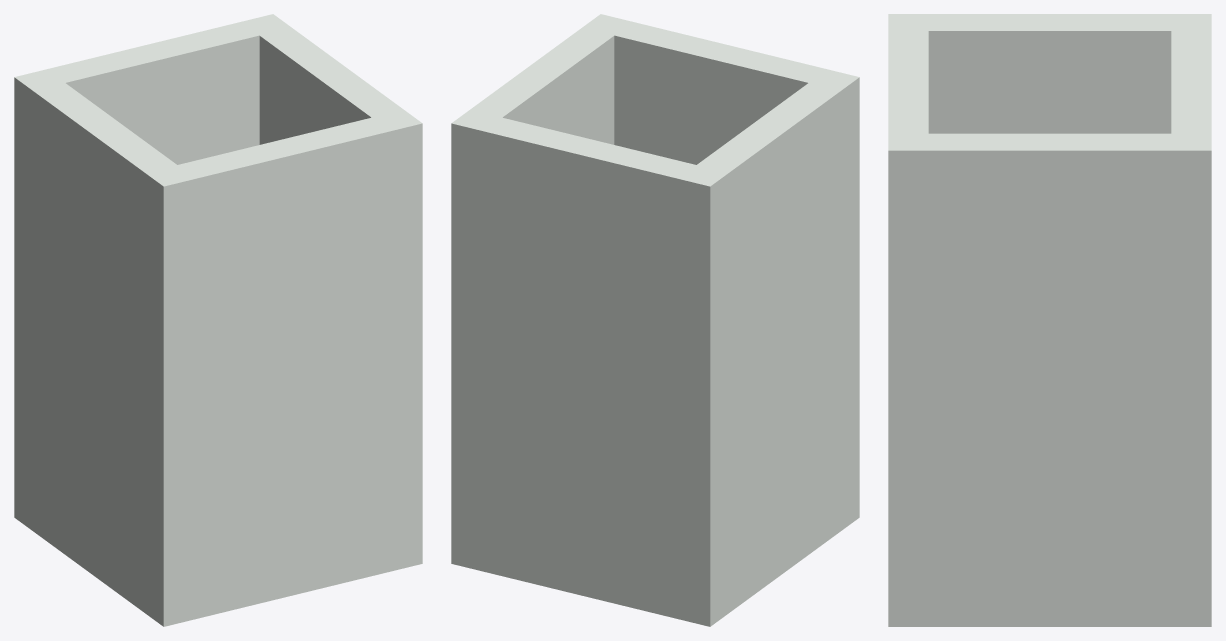
File: bin.obj
The picture shows the model from 3 angles, left to right: view 1: azimuth 30°, elevation 25°; view 2: azimuth 150°, elevation 25°; view 3: azimuth 270°, elevation 25°; orthographic projection. The views are drawn at different scales.
Bounding box in the file's own units: 0.8 × 1.3 × 0.8.
1 material, 1 textured.
